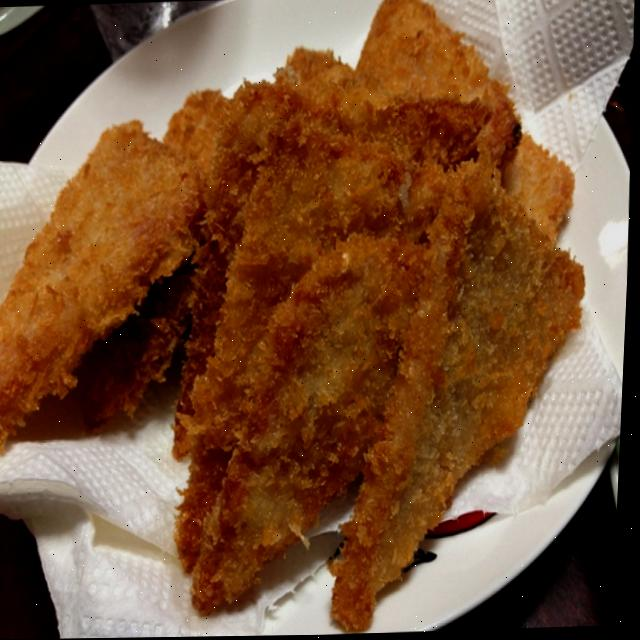炸货点心: (0, 10, 628, 626)
